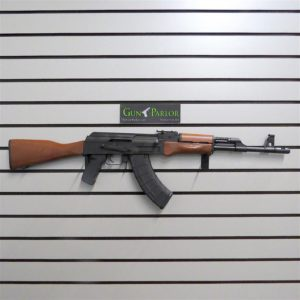ak47: (9, 131, 291, 209)
